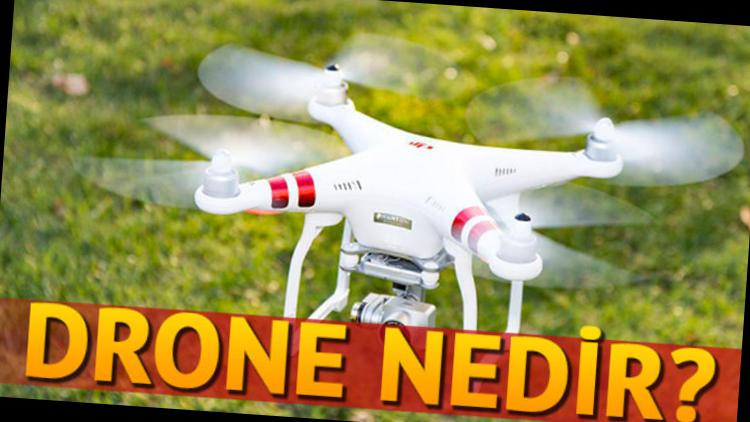drone: (126, 28, 705, 334)
